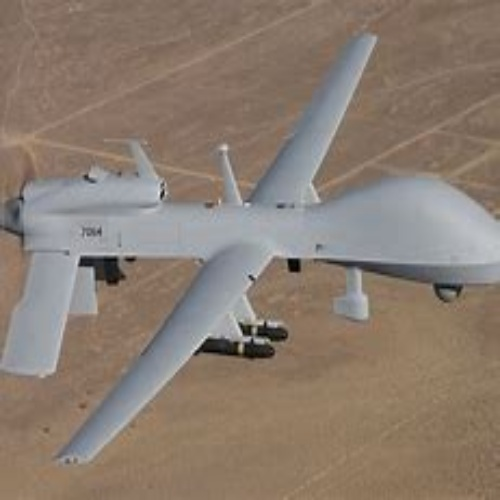uav272: (2, 33, 500, 465)
